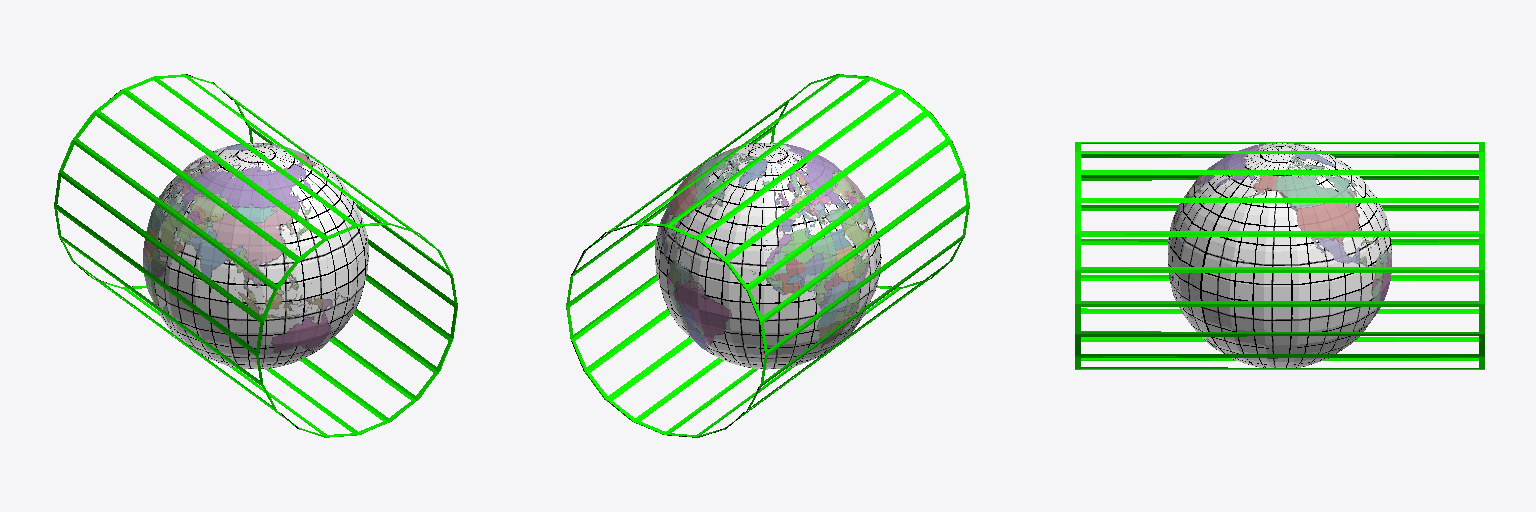
The picture shows the model from 3 angles: view 1: azimuth 30°, elevation 25°; view 2: azimuth 150°, elevation 25°; view 3: azimuth 270°, elevation 25°; orthographic projection.
Parts seen in each view (by area): view 1: polySurface1; view 2: polySurface1; view 3: polySurface1.
Boxes of the visible parts, box(x1,y1,x2,y2) form: polySurface1: box(54, 74, 457, 437); polySurface1: box(566, 74, 969, 437); polySurface1: box(1075, 142, 1484, 369).
Bounding box in the file's own units: 18.22 × 18.24 × 32.47.
2 materials, 1 textured.